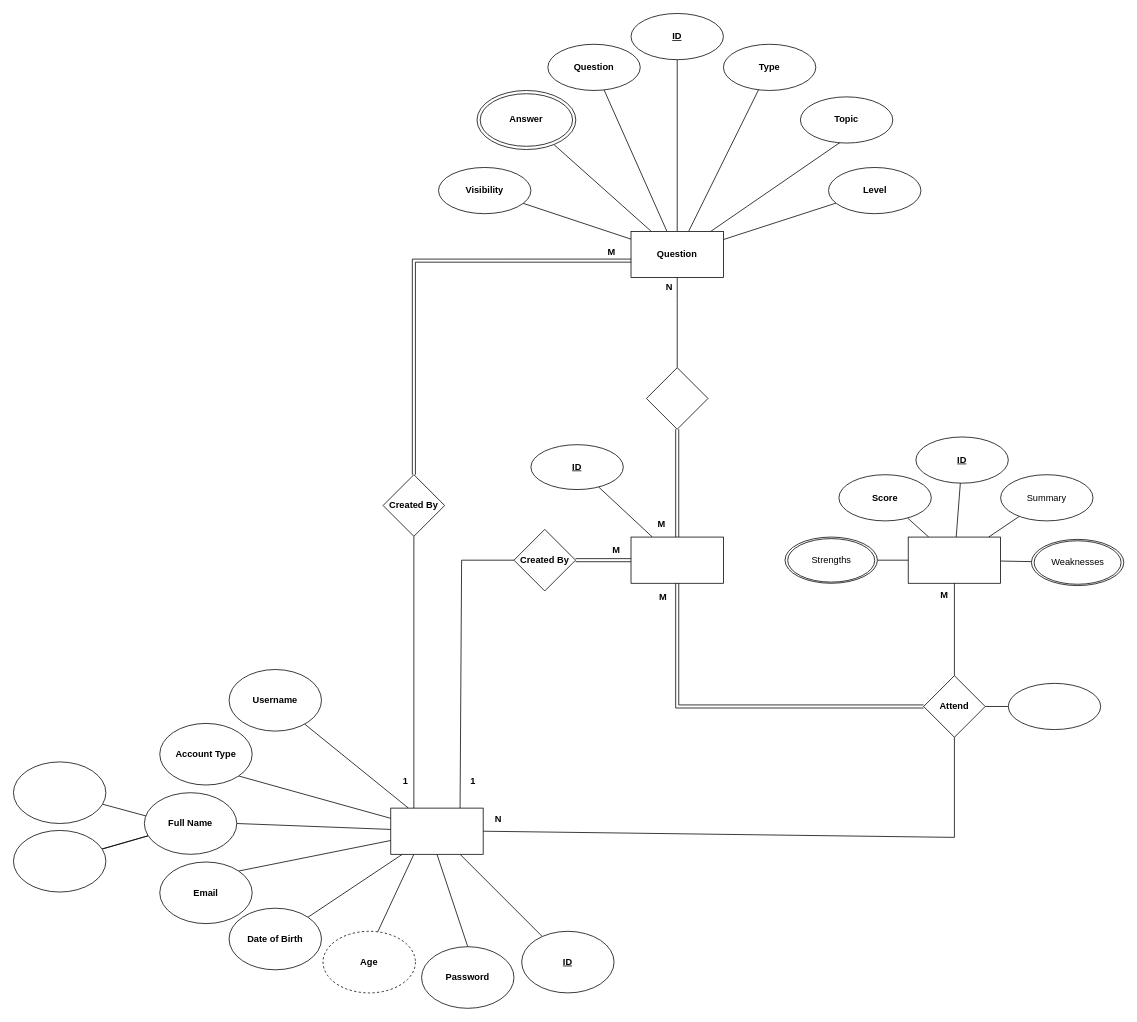
This 1137x1022 diagram has some shape labels left out. Each missing label, with the centre of its shape:
AttendenceDate: [1054,706]
Contains: [677,398]
First Name: [59,861]
Interview: [676,559]
Last Name: [59,792]
Report: [954,559]
User: [436,830]
